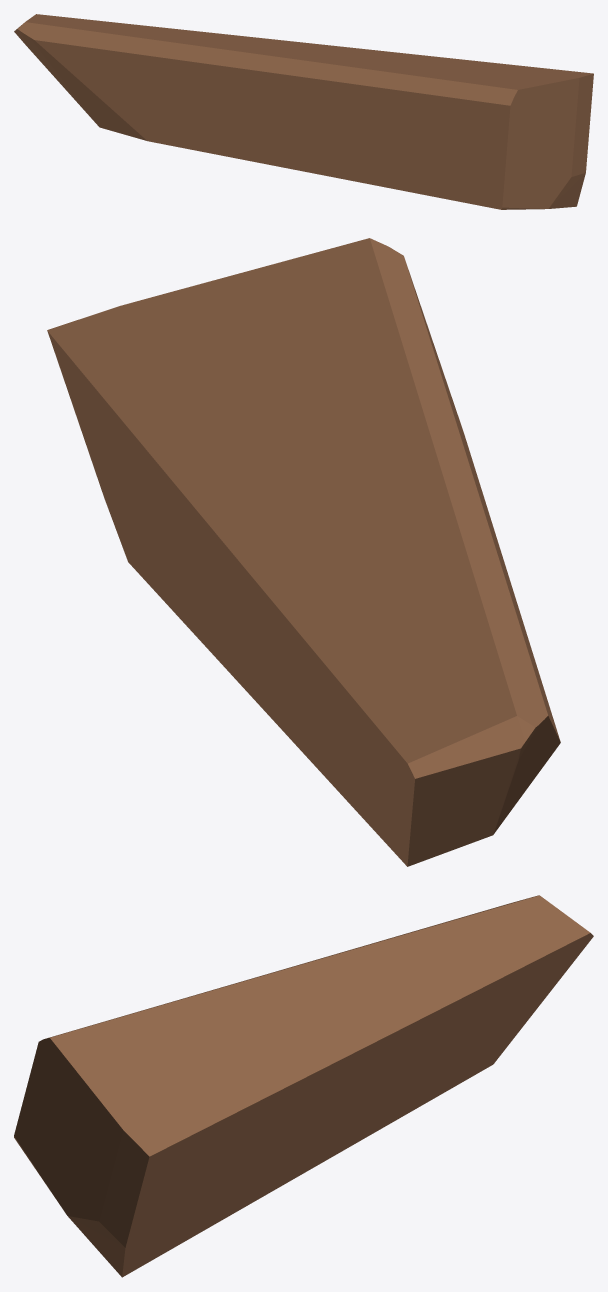
The model's file is WoodCellCube_003_cell_051.fbx.
3 views of the same model, one above another, from view 1: azimuth 30°, elevation 25°; view 2: azimuth 150°, elevation 25°; view 3: azimuth 270°, elevation 25° (orthographic). The views are drawn at different scales.
Parts seen in each view (by area): view 1: WoodCellCube_003_cell_051; view 2: WoodCellCube_003_cell_051; view 3: WoodCellCube_003_cell_051.
Boxes of the visible parts, <box> form: WoodCellCube_003_cell_051: <box>14,14,593,209</box>; WoodCellCube_003_cell_051: <box>47,238,560,866</box>; WoodCellCube_003_cell_051: <box>14,895,593,1277</box>.
Bounding box in the file's own units: 1.12 × 0.401 × 1.07.
1 material, 1 textured.
